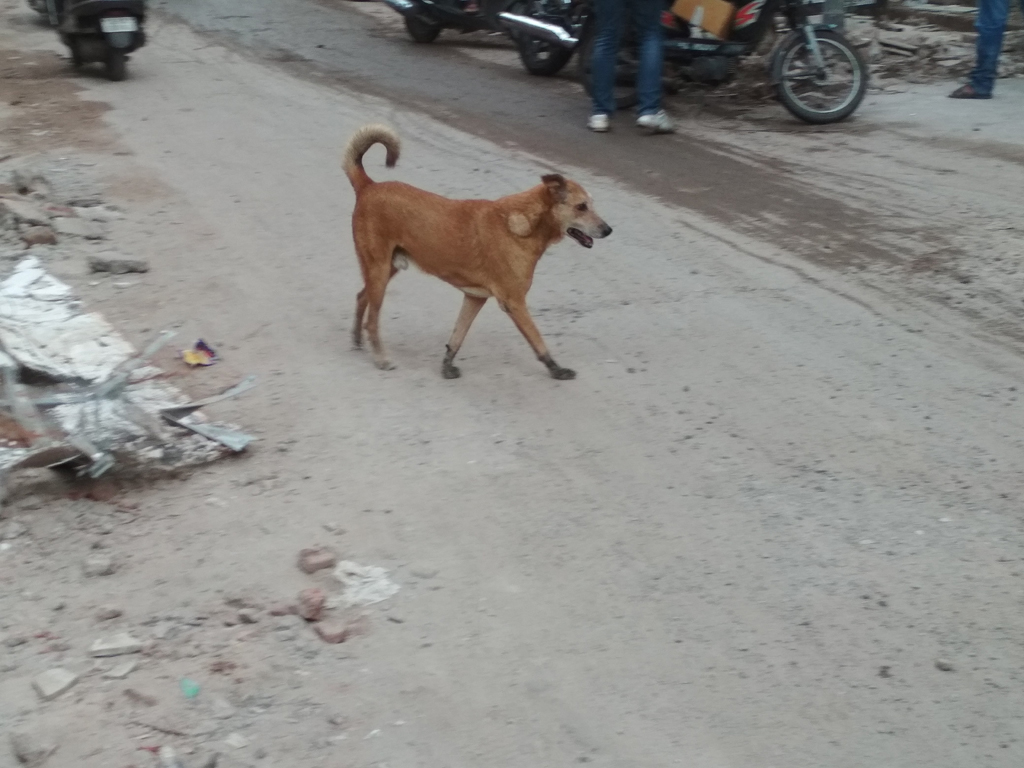dog: (341, 123, 613, 380)
